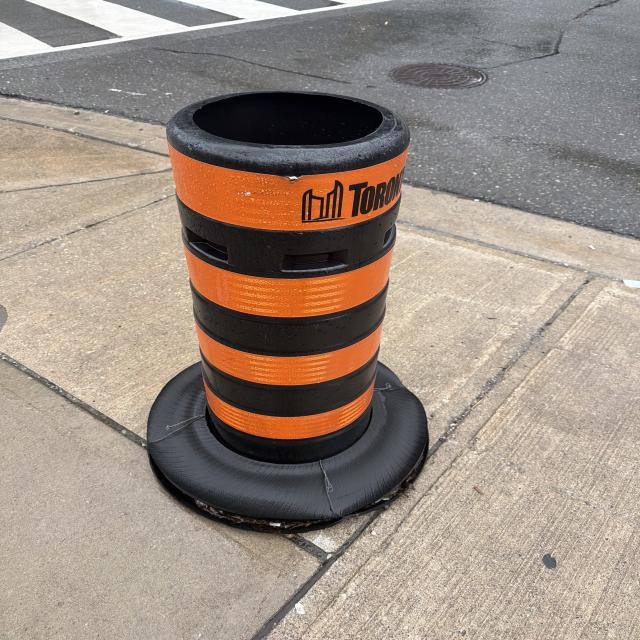Teraffic Barrel: (148, 92, 428, 530)
